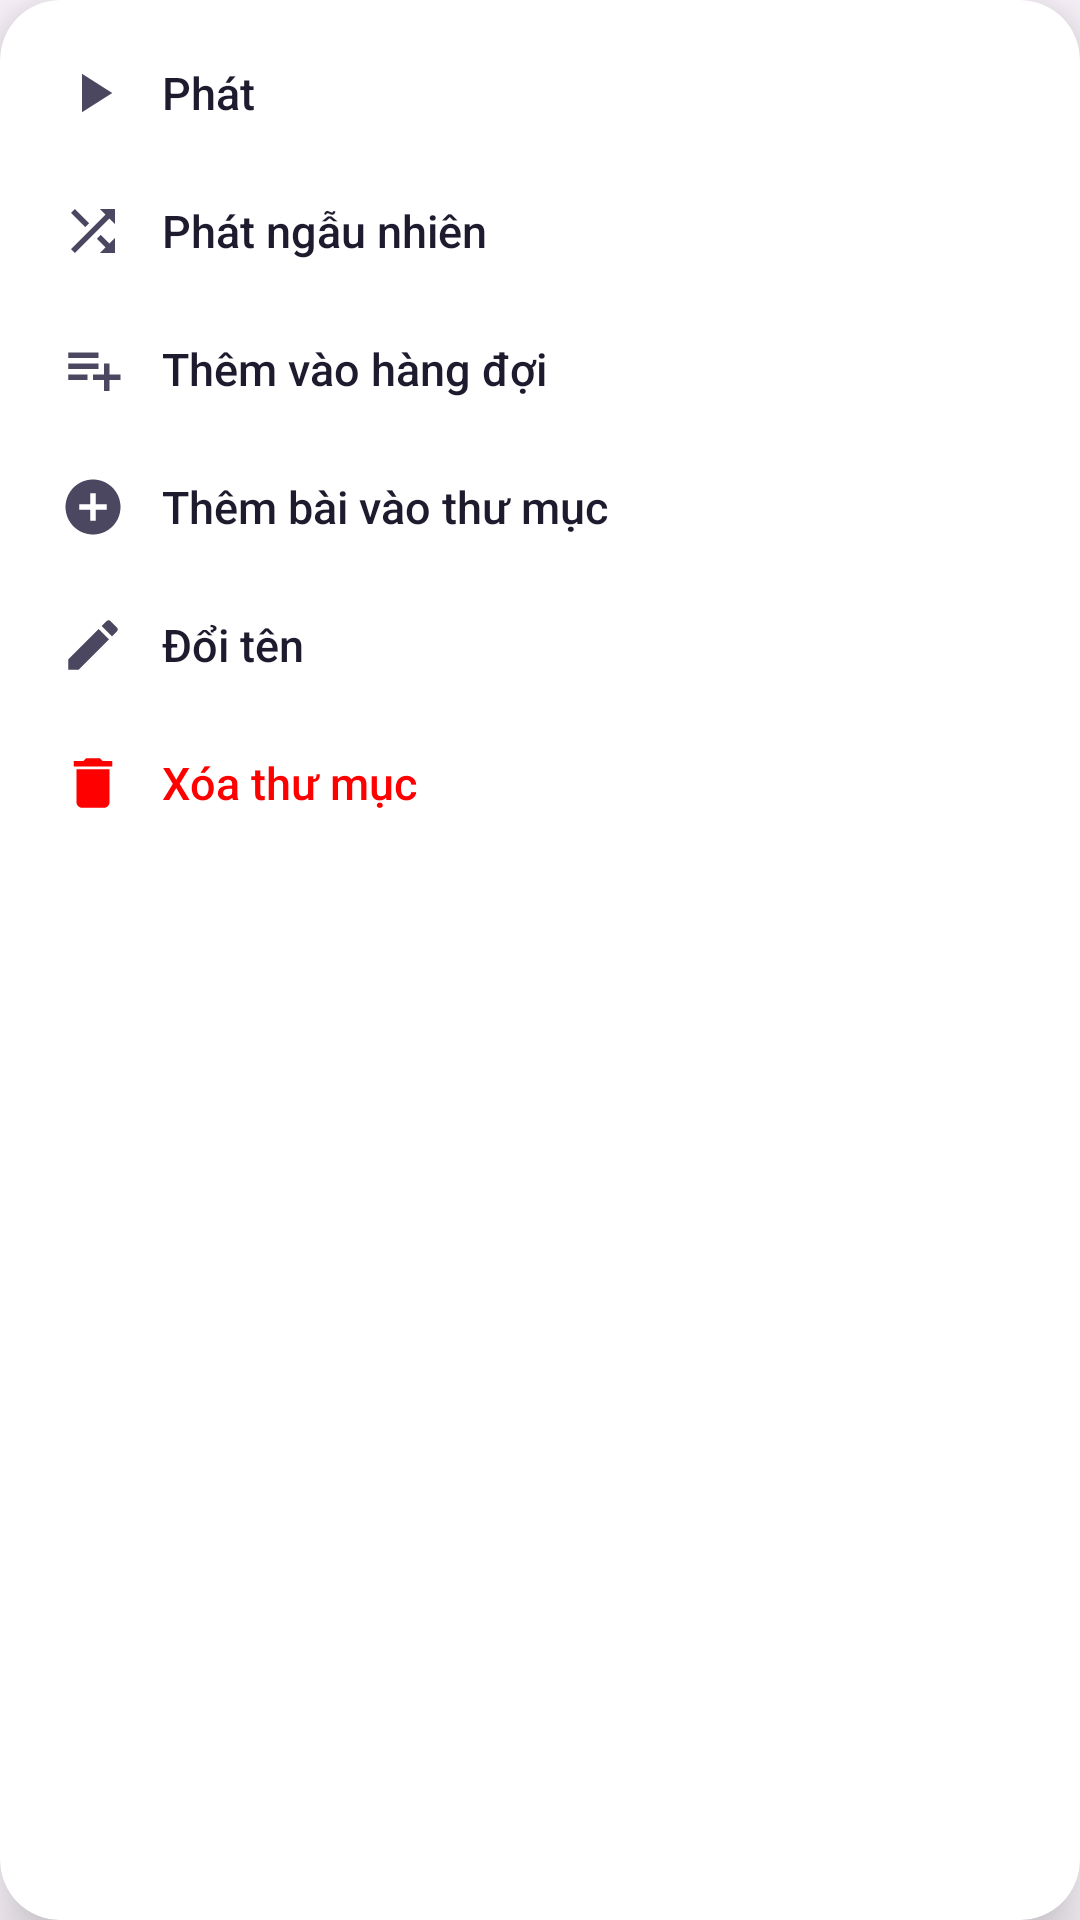

Where to tap for icons on this 1080*1920 app screen, as (x,y):
add song: (93,507)
delete: (93,783)
edit: (93,645)
play: (97,93)
queue add: (94,371)
shuffle: (93,231)
